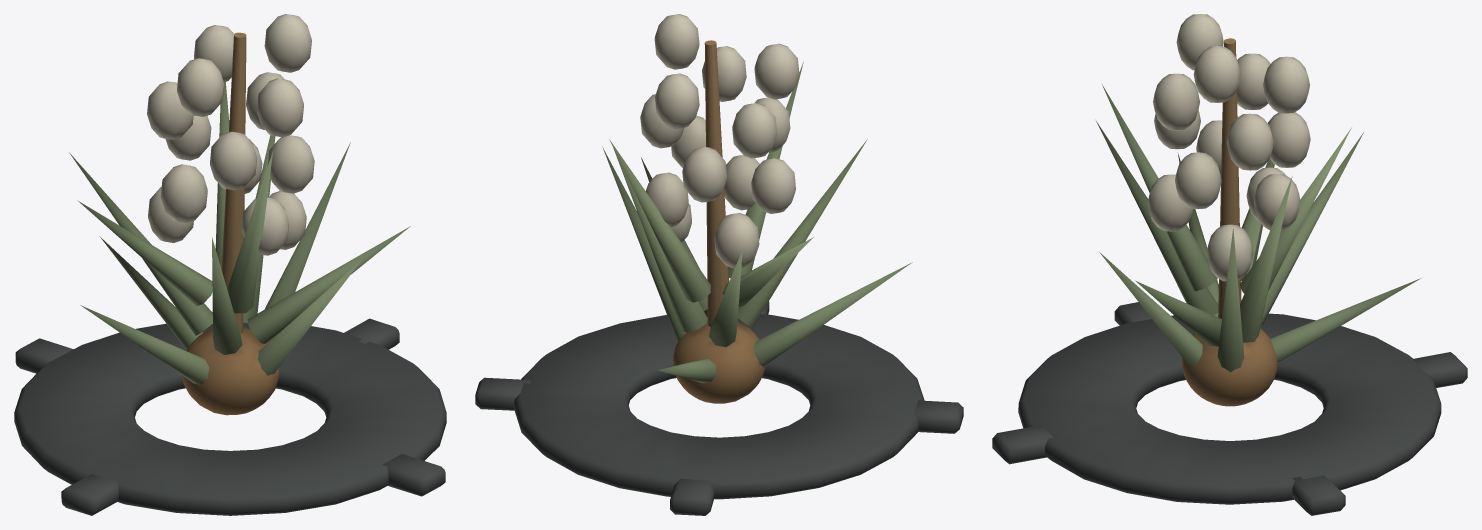
Rendered from yucca_c.glb.
3 views of the same model, side by side, from view 1: azimuth 30°, elevation 25°; view 2: azimuth 150°, elevation 25°; view 3: azimuth 270°, elevation 25° (orthographic). The views are drawn at different scales.
Visible parts, largest first — view 1: Surface; view 2: Surface; view 3: Surface.
Part boxes in pixels (x1=…): Surface: x1=14, y1=14, x2=446, y2=515; Surface: x1=475, y1=14, x2=963, y2=515; Surface: x1=992, y1=14, x2=1467, y2=515.
Bounding box in the file's own units: 2.25 × 2.07 × 2.25.
